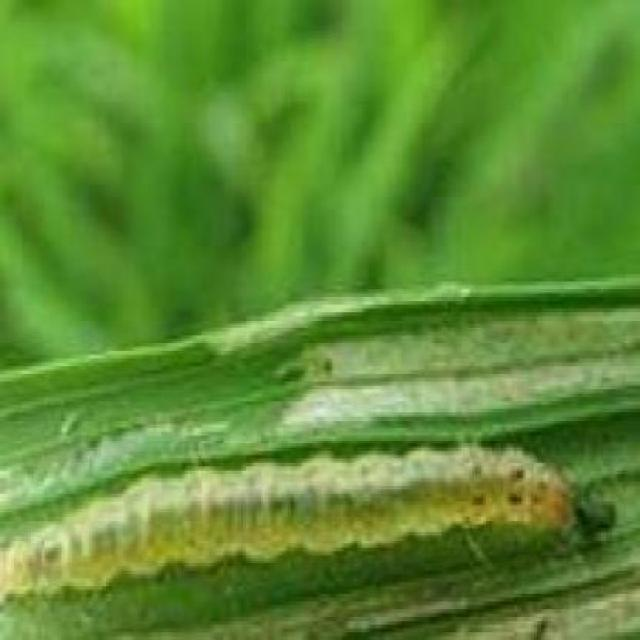leaf-folder: (20, 411, 614, 640)
